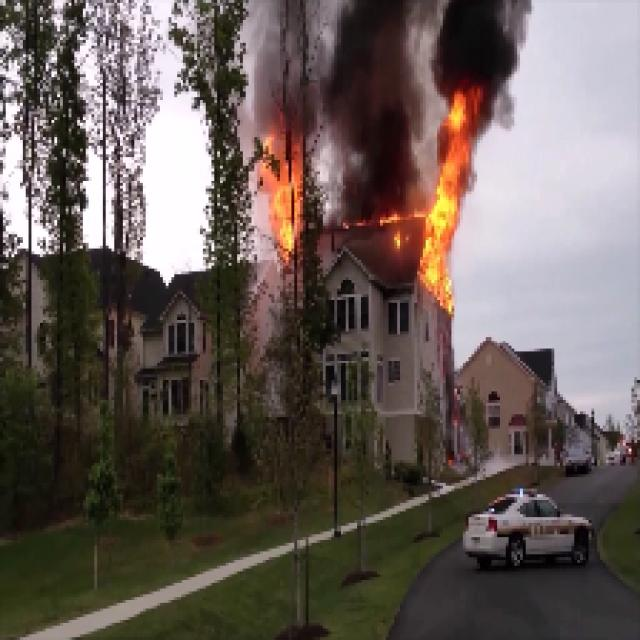fire: (429, 104, 472, 292), (261, 142, 312, 247)
smoke: (327, 8, 414, 218), (439, 4, 515, 96)
